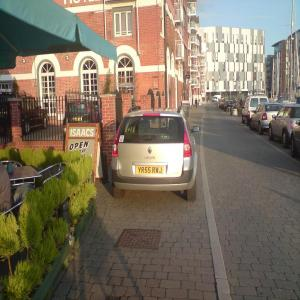Vehicle-registration-plate: (137, 166, 165, 175)
